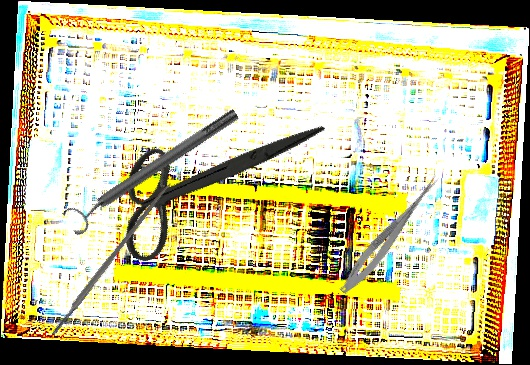Fixation Ring: (60, 101, 246, 238)
Iris Scissors: (91, 51, 327, 309)
Micro Scissor: (335, 169, 444, 299)
Scalpel Handle: (47, 180, 174, 338)
